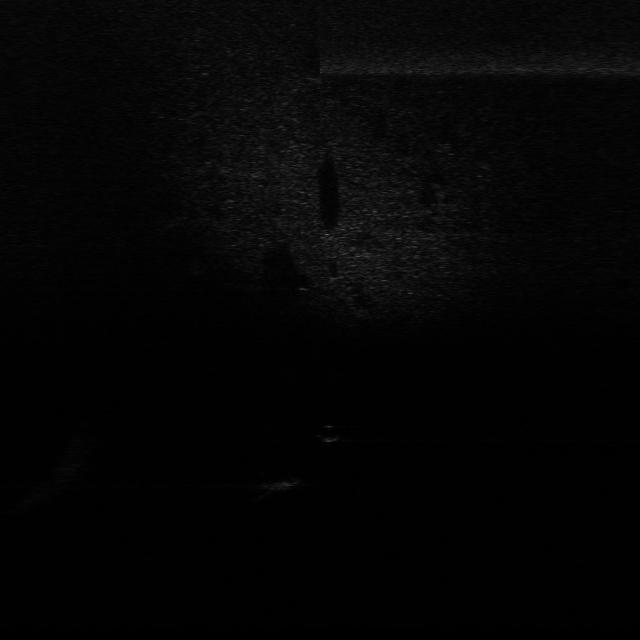ball: (309, 423, 342, 444)
square cage: (258, 474, 304, 496)
